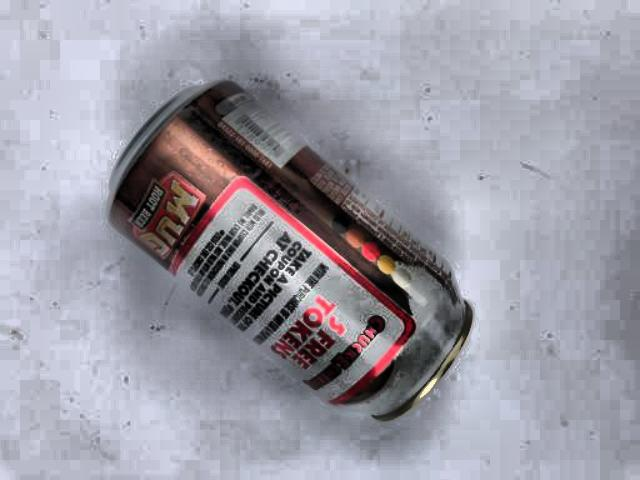Bottles: (109, 69, 487, 416)
